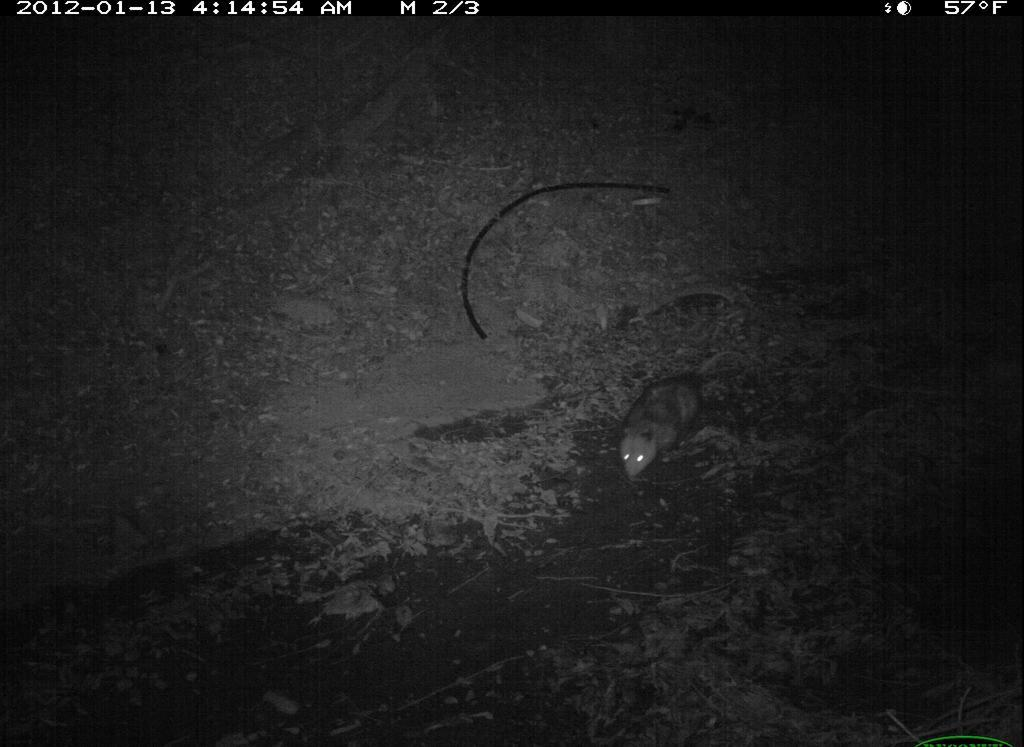opossum: (619, 351, 741, 479)
